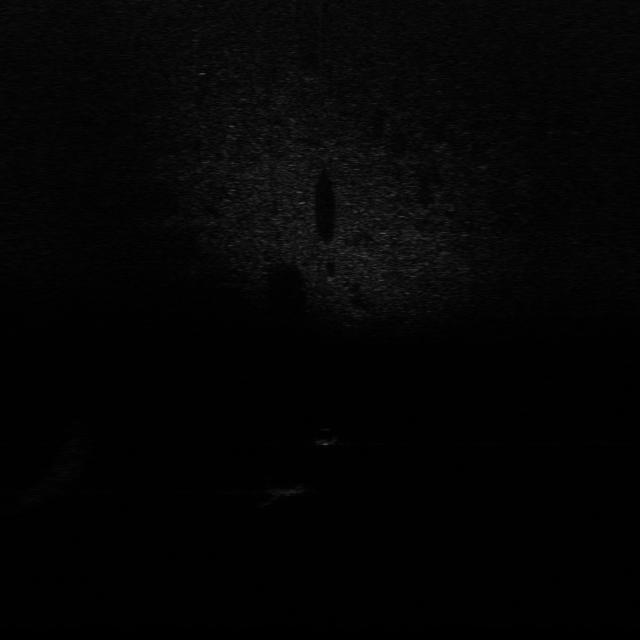ball: (308, 423, 341, 448)
square cage: (262, 478, 321, 499)
